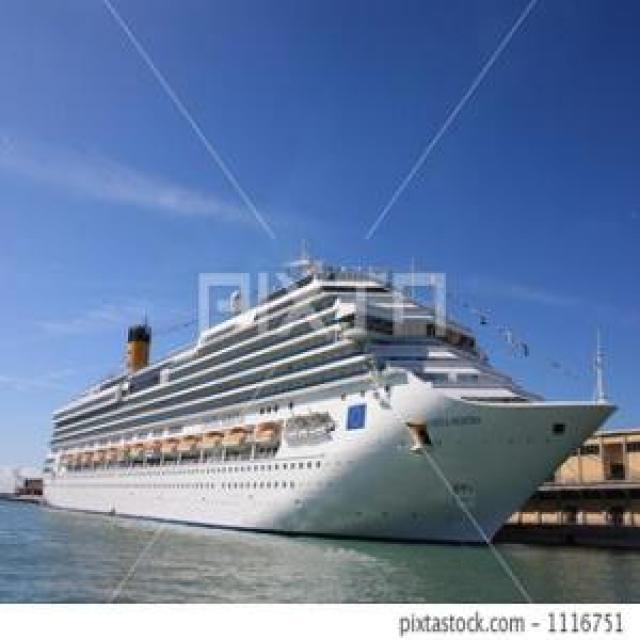passenger ship: (45, 269, 614, 542)
